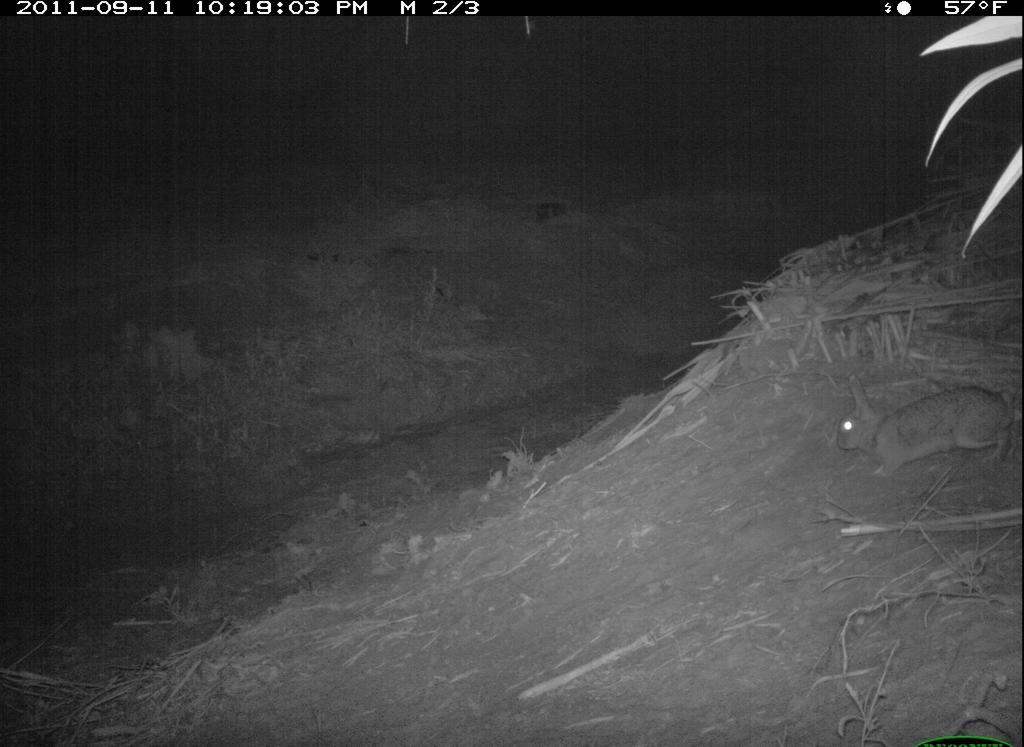rabbit: (818, 368, 1017, 483)
